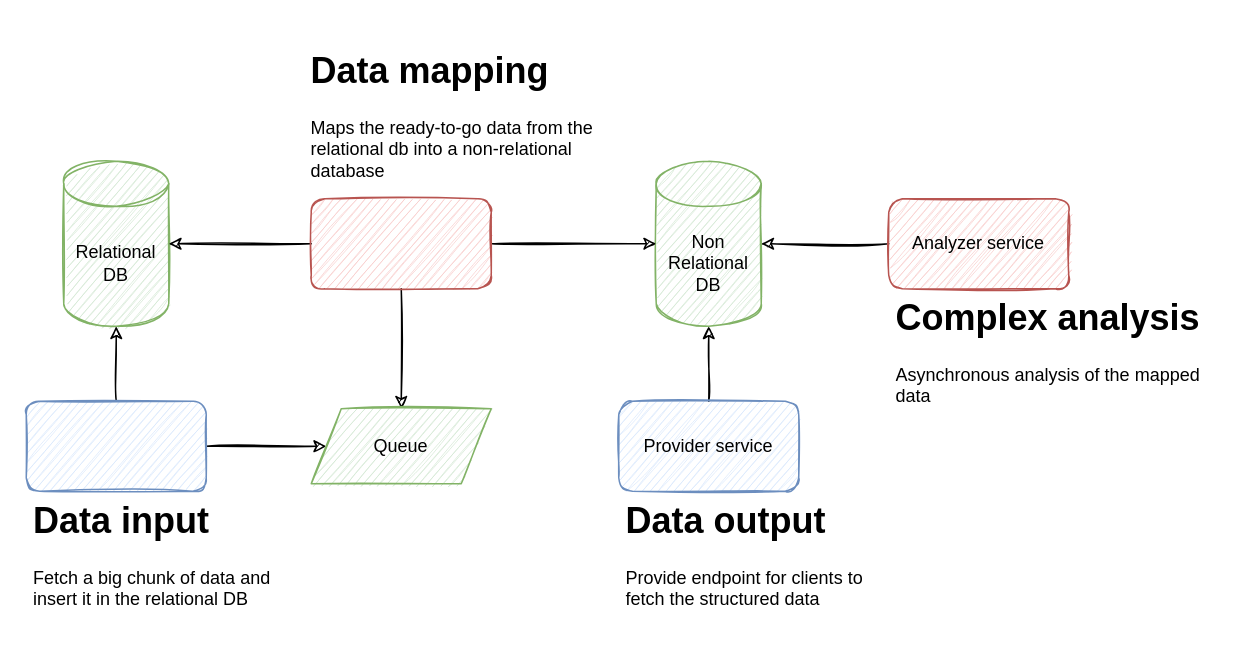
Some shapes in this 1253 by 666 pixel diagram are drawn without their labels. The shapes that lost their labels are listed below. From the top down, each one's centre as x and y in pixels, then its label:
pixel 400 243: Mirror service
pixel 115 445: Fetcher service
